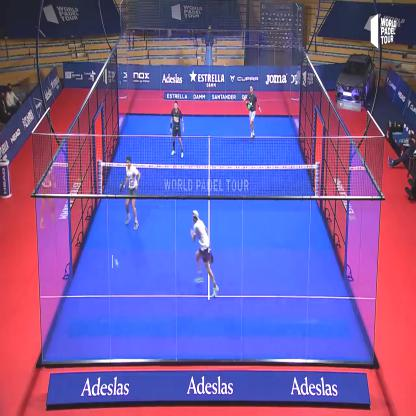ball: (112, 255, 119, 269)
